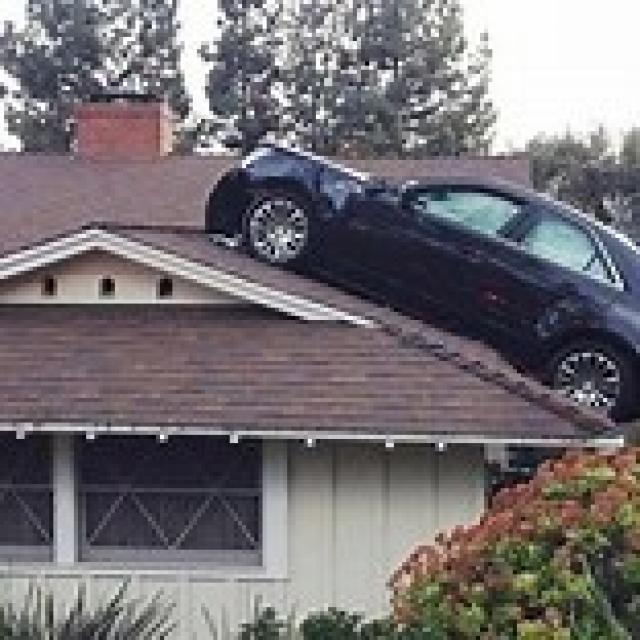Accident: (176, 88, 640, 472)
